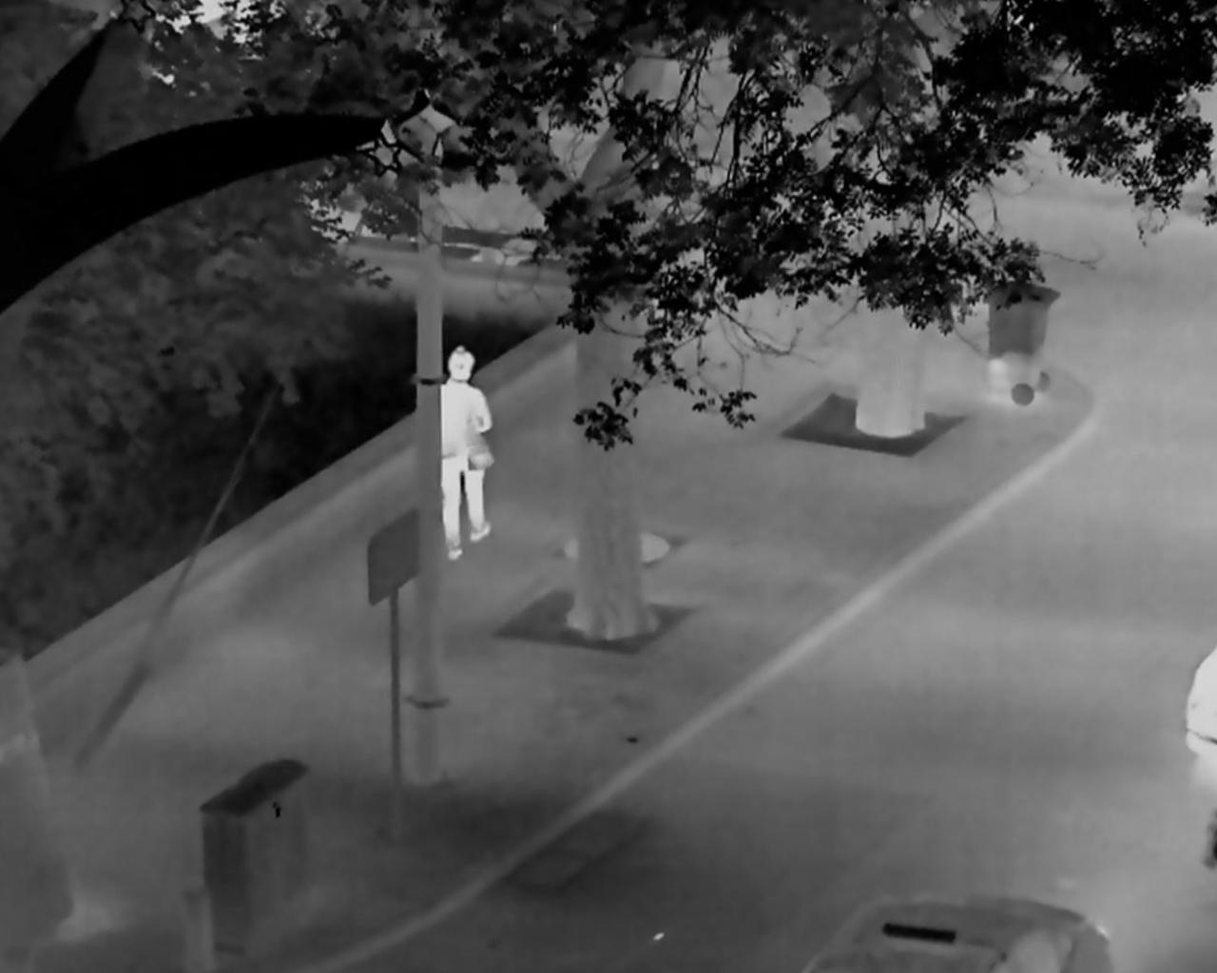person: (440, 343, 496, 562)
